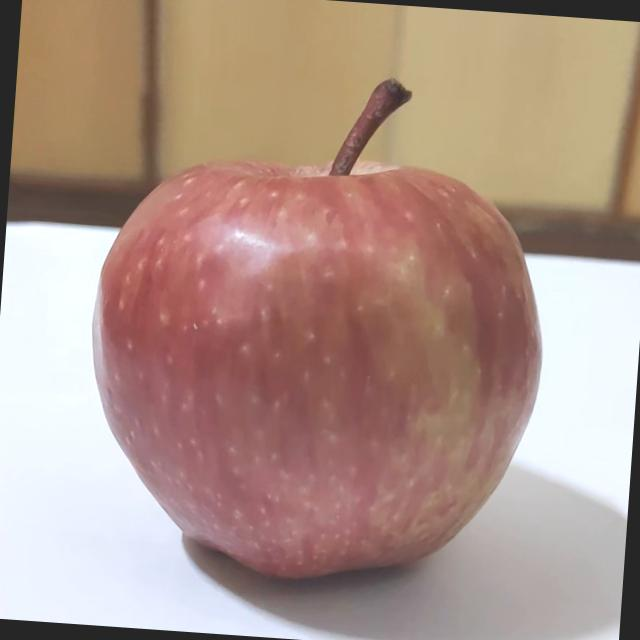apple: (66, 59, 560, 616)
